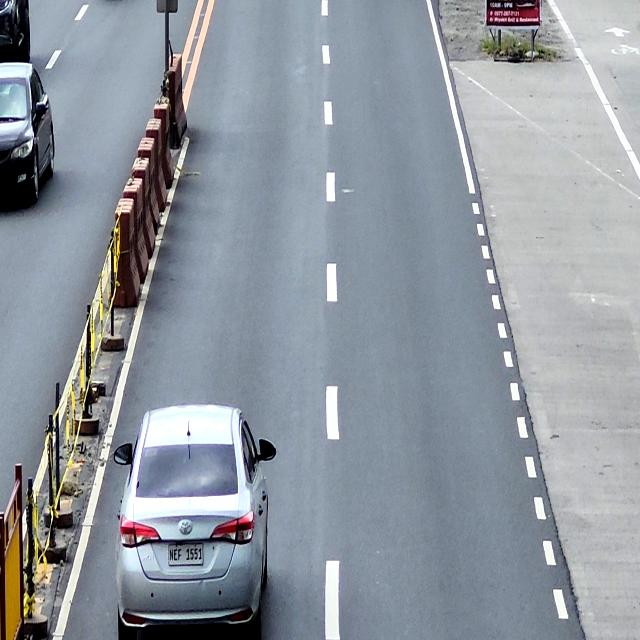Car: (113, 402, 278, 640), (0, 60, 57, 204), (0, 0, 31, 62)
License-Plate: (166, 541, 206, 566)
